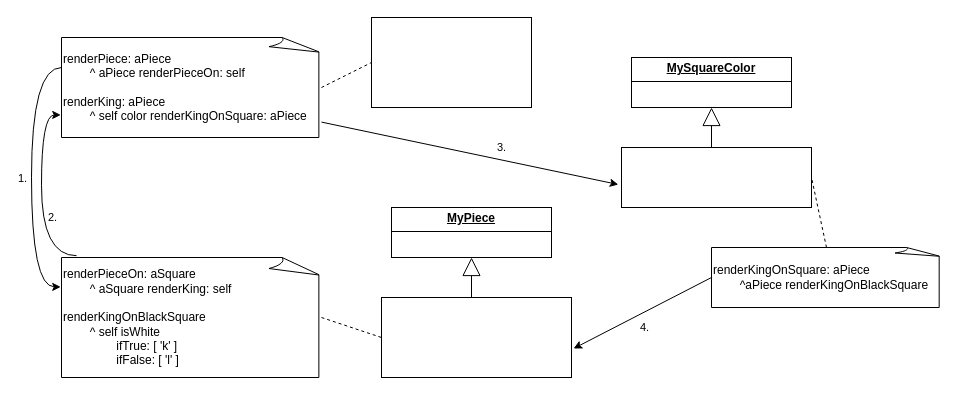
This 959x395 diagram has some shape labels left out. The box of each missing label's shape, as (x1, y1, x2, y2) in pixels:
MyBlackSquare renderKingOnSquare: aPiece: (620, 146, 812, 208)
MyChessSquare renderPiece: aPiece renderKing: aPiece: (370, 16, 532, 108)
MyKing renderPieceOn: aSquare renderKingOnBlackSquare: (380, 296, 572, 378)
